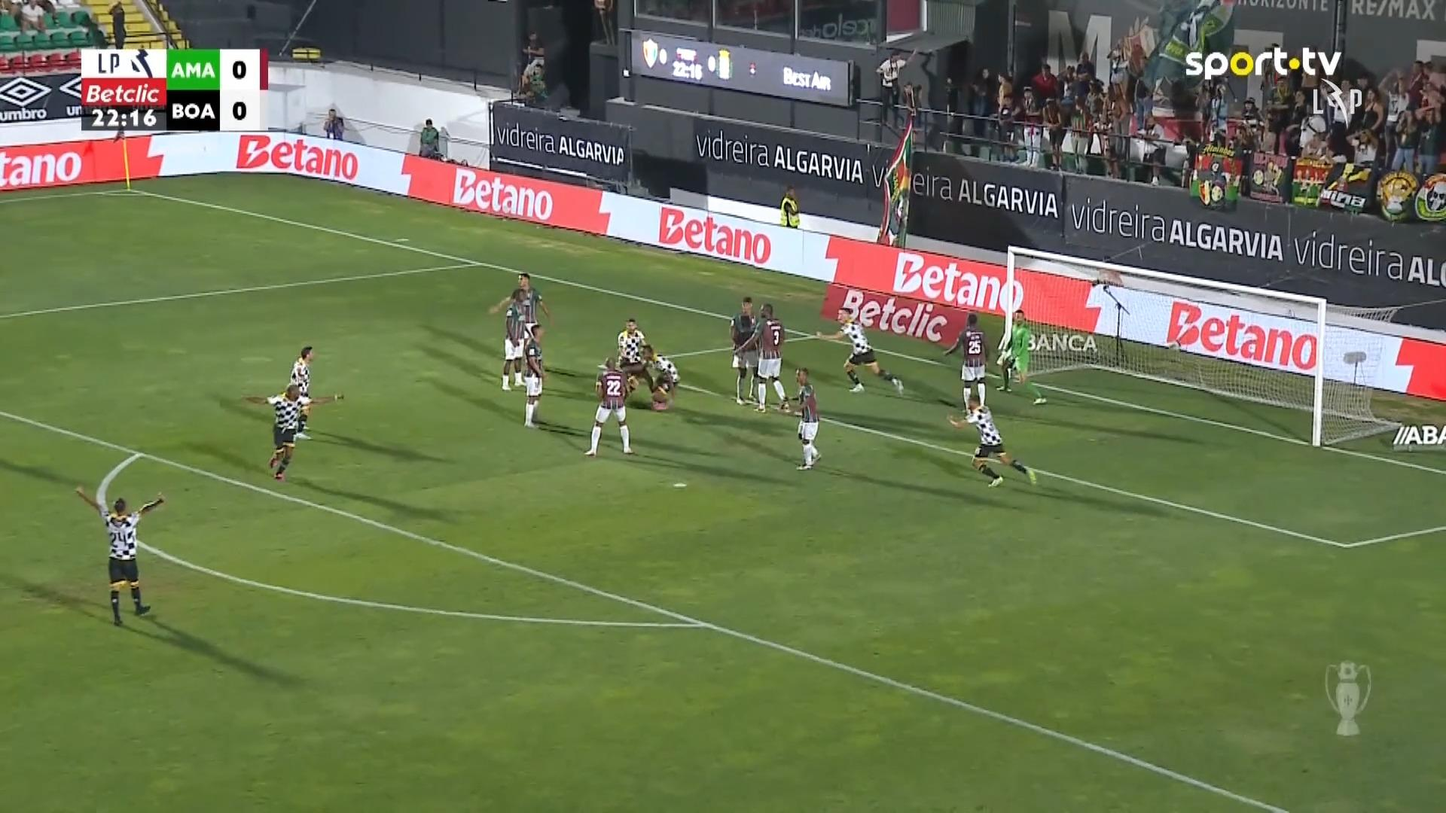ball: (627, 375, 638, 391)
goalkeeper: (994, 308, 1048, 404)
player: (74, 483, 165, 626), (242, 381, 343, 481), (947, 394, 1037, 488), (813, 306, 905, 394), (735, 302, 791, 413), (583, 355, 637, 456), (287, 345, 342, 440), (941, 311, 989, 417), (490, 271, 551, 349), (782, 366, 822, 470), (728, 296, 759, 406), (499, 287, 528, 391), (615, 317, 655, 392), (288, 345, 315, 440), (520, 338, 545, 428), (647, 352, 679, 410)
